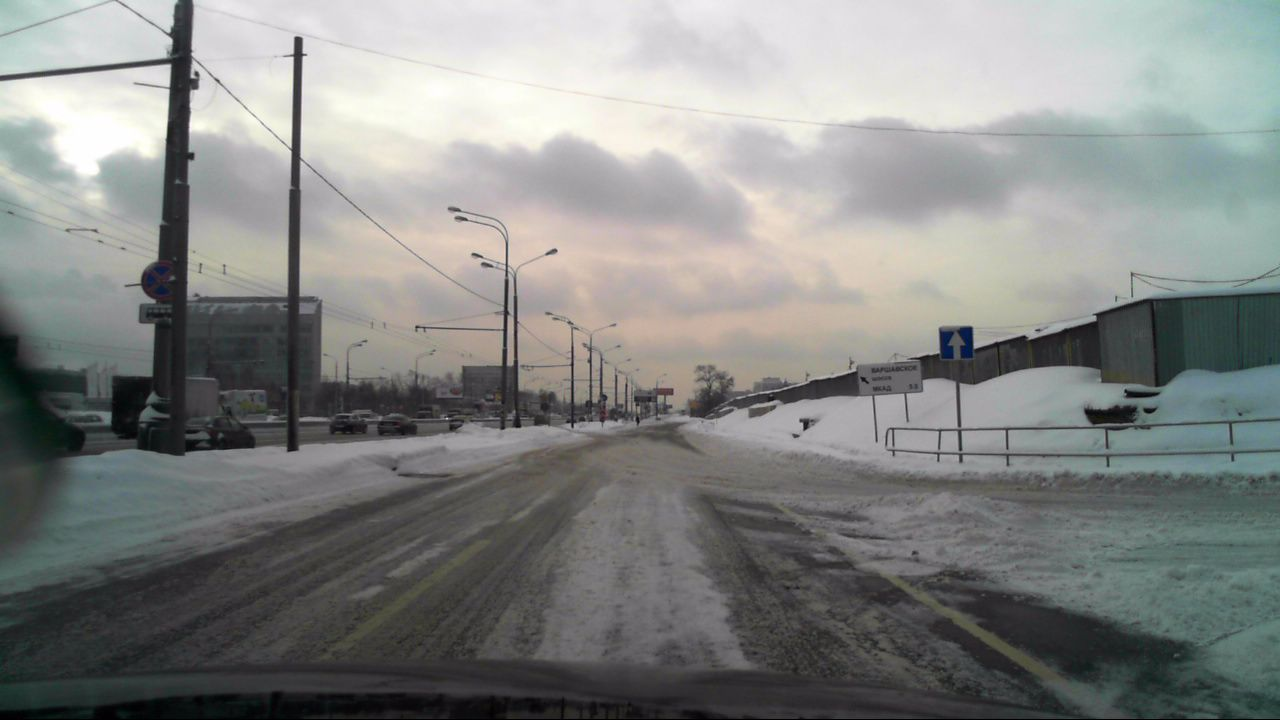No Parking: (141, 261, 183, 301)
